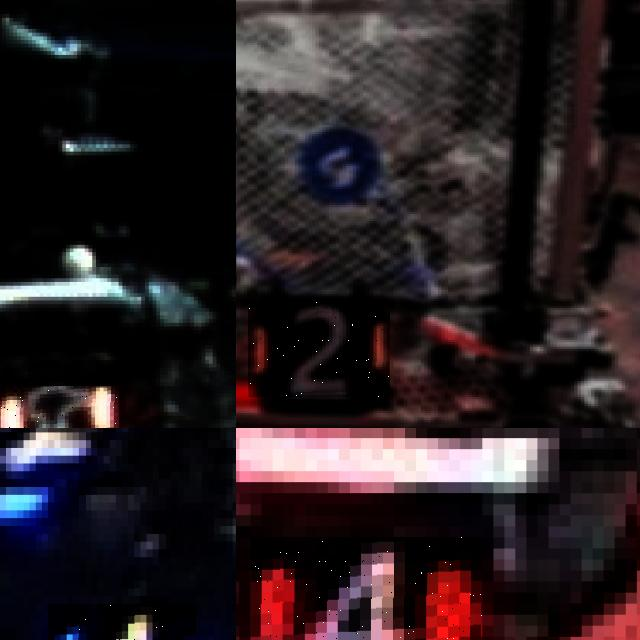B4: (48, 604, 195, 640)
R2: (248, 301, 390, 397)
R4: (250, 537, 482, 640)
Rs: (0, 386, 118, 428)
